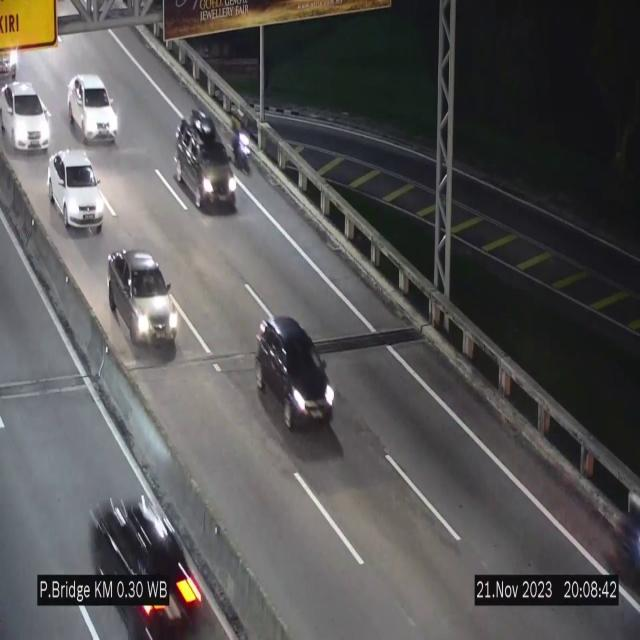Car: (80, 473, 210, 634), (258, 313, 340, 441), (108, 249, 178, 355), (172, 111, 240, 219), (48, 149, 104, 230), (68, 75, 119, 144), (2, 81, 50, 151)
Motorcycle: (234, 109, 256, 169)
